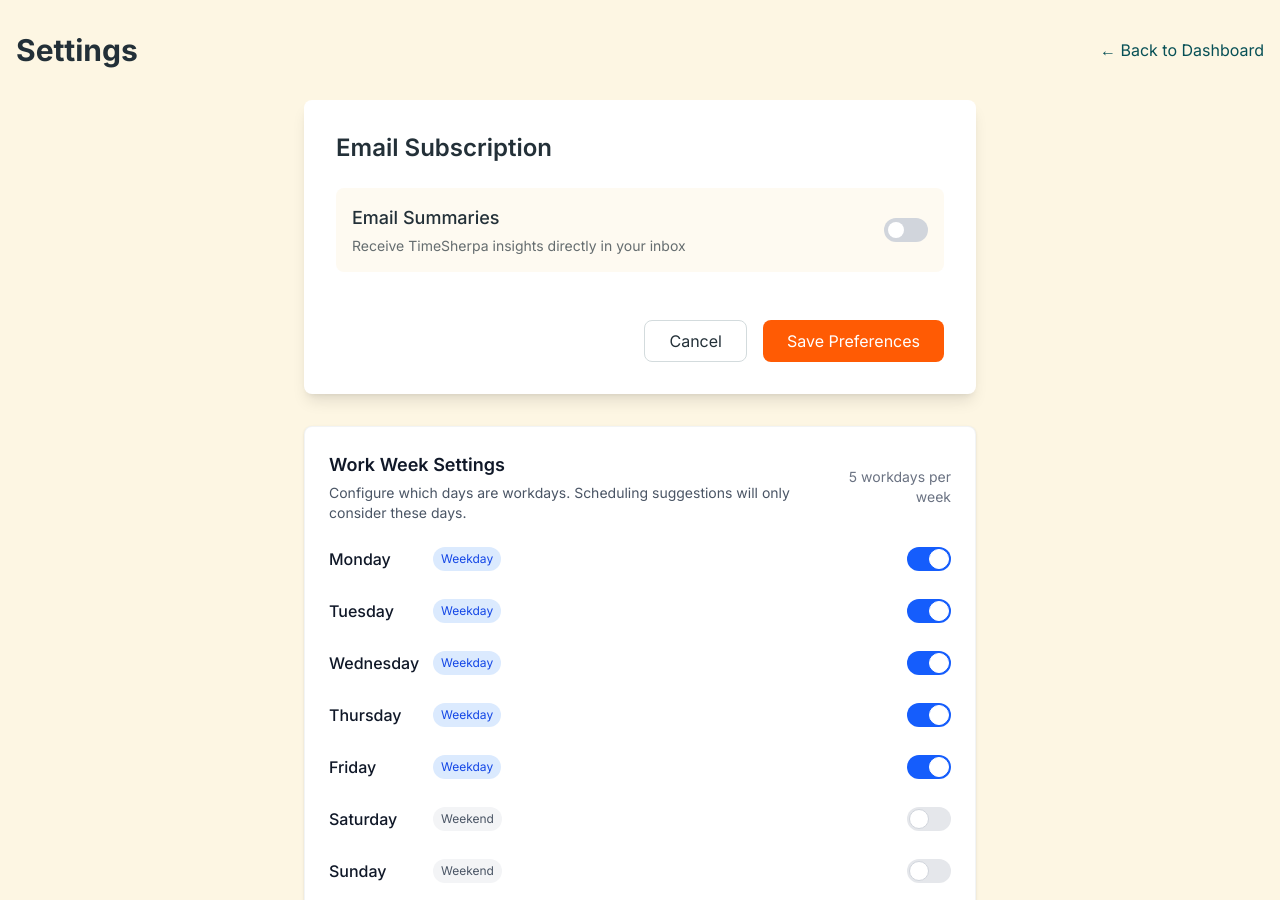
Settings › toggles subscription status
Expected: the heading "Email Summaries" is shown, [352,207,500,228]
Click the 2nd button.
click(906, 230)  # box [884,218,928,242]
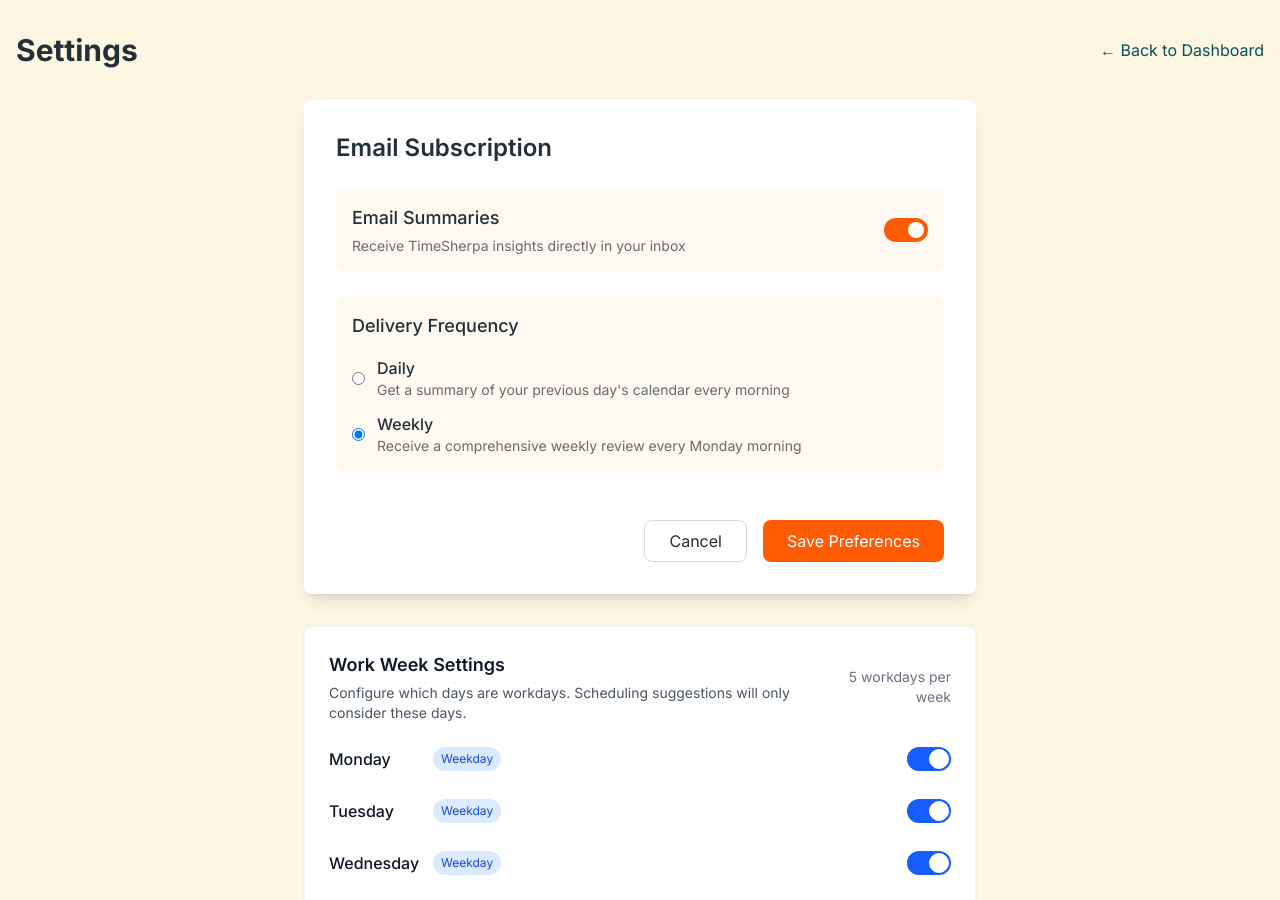
Result: the heading "Delivery Frequency" is shown at [352,315,519,336]
Result: the radio button labelled "Daily" is shown at [352,372,365,384]
Result: the radio button labelled "Weekly" is shown at [352,428,365,440]
